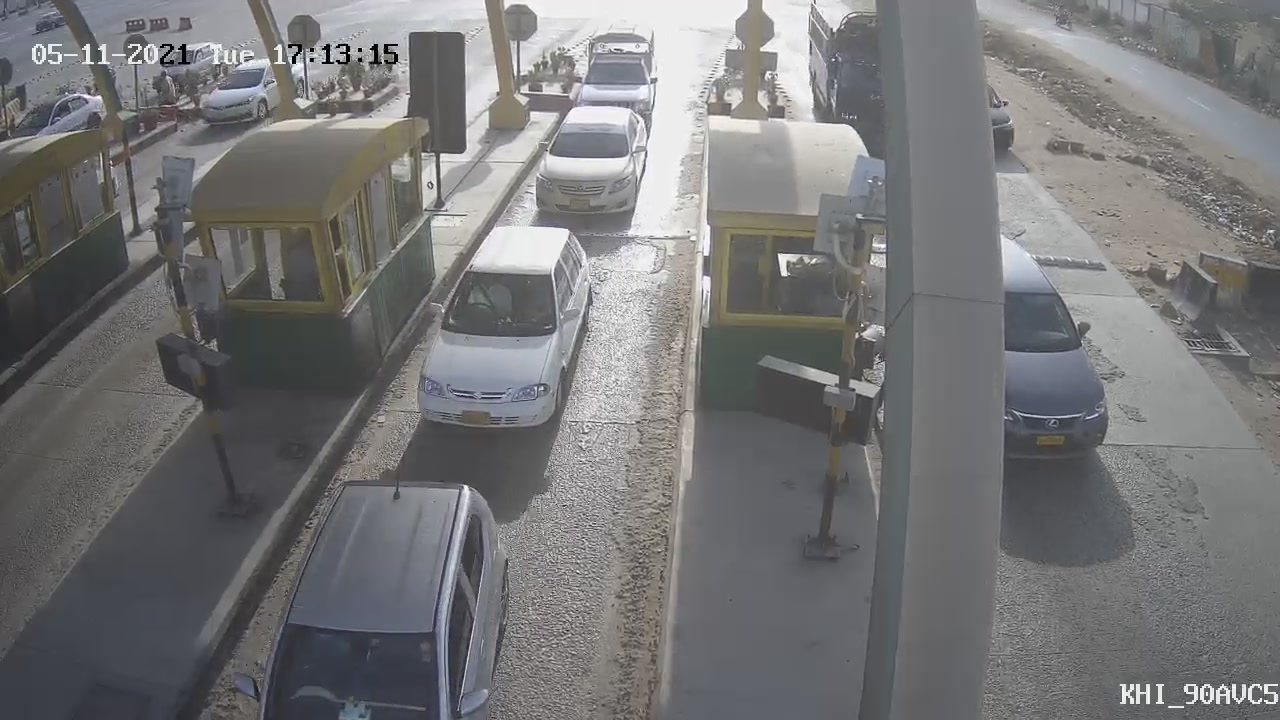F1: (400, 212, 607, 456), (520, 95, 664, 236)
